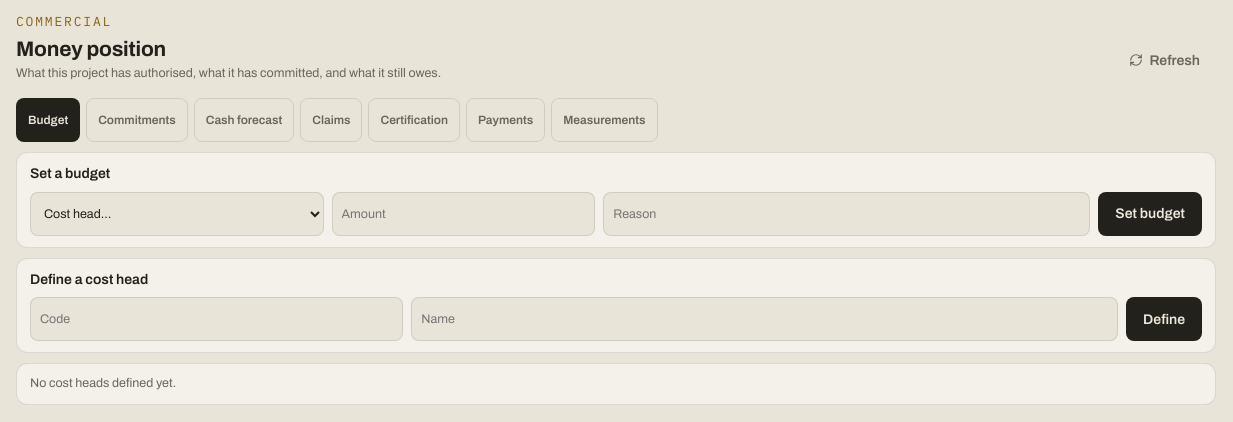
Test: Task 7B-ii (§M) — the rendered claim tabs never dereference an absent claim › G1: the panel is never blank — an emptied list shows a state while it reloads
The width and height of the screenshot is (1233, 422).
Click the button with test id "commercial-tab-claims": (331, 120) [300, 98, 362, 142]
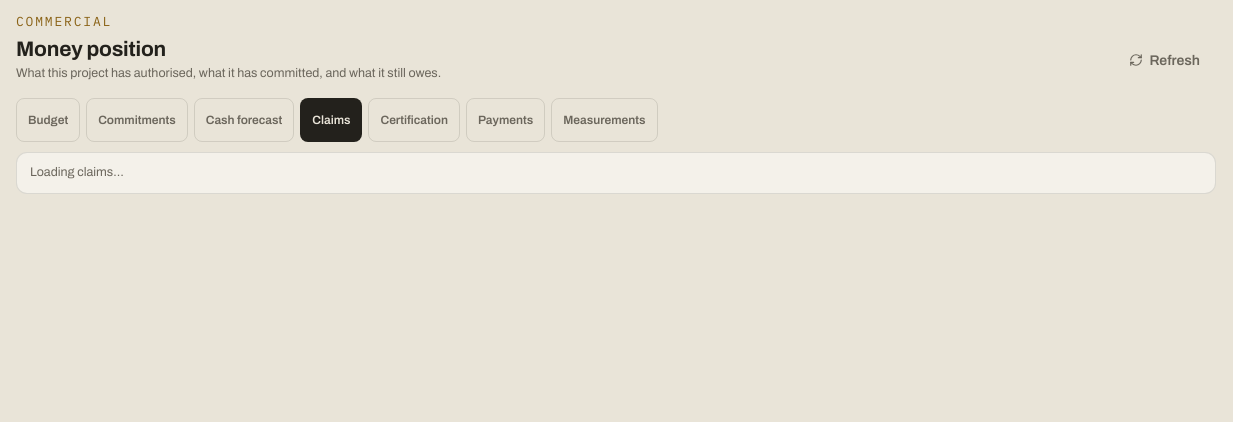
Now the text "Loading claims…" is shown, box [16, 152, 1216, 194]
